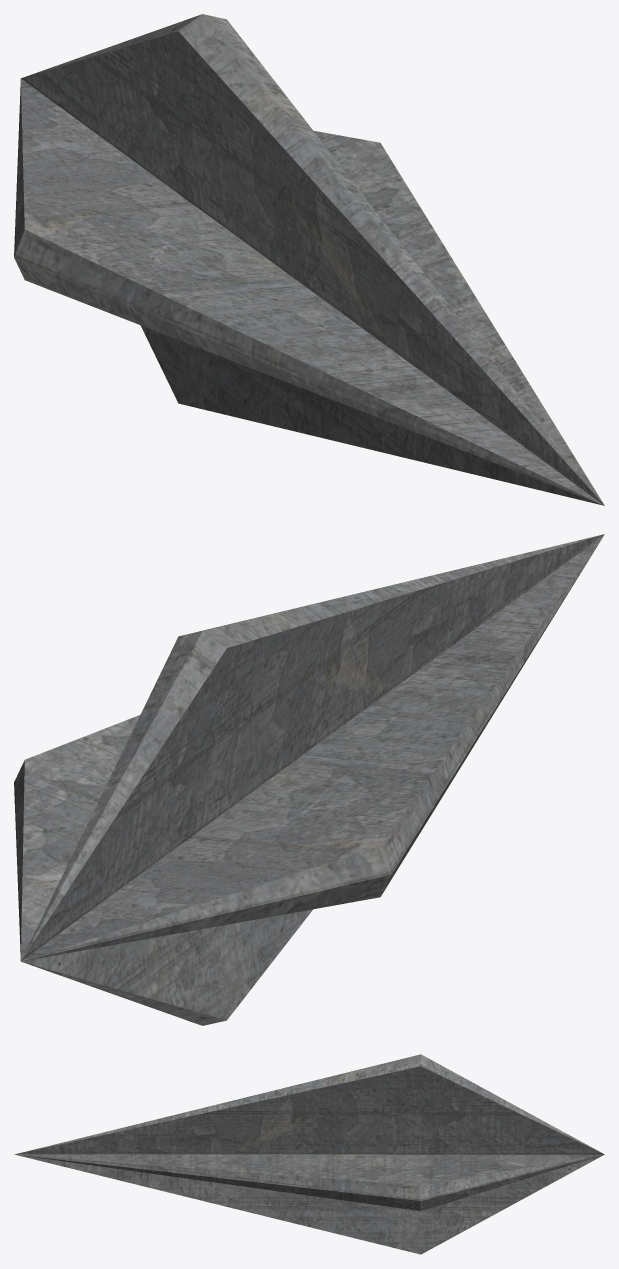
The model's file is odm-hook.fbx.
3 renders of one model, top to bottom at view 1: azimuth 30°, elevation 25°; view 2: azimuth 150°, elevation 25°; view 3: azimuth 270°, elevation 25°, orthographic. The views are drawn at different scales.
Visible parts, largest first — view 1: Plane; view 2: Plane; view 3: Plane.
Part boxes in pixels (x1,y1,x2,y2): Plane: (14,14,604,505); Plane: (14,534,604,1025); Plane: (14,1054,604,1254).
Size of the model in its own units: 8.17 by 8.17 by 21.89.
